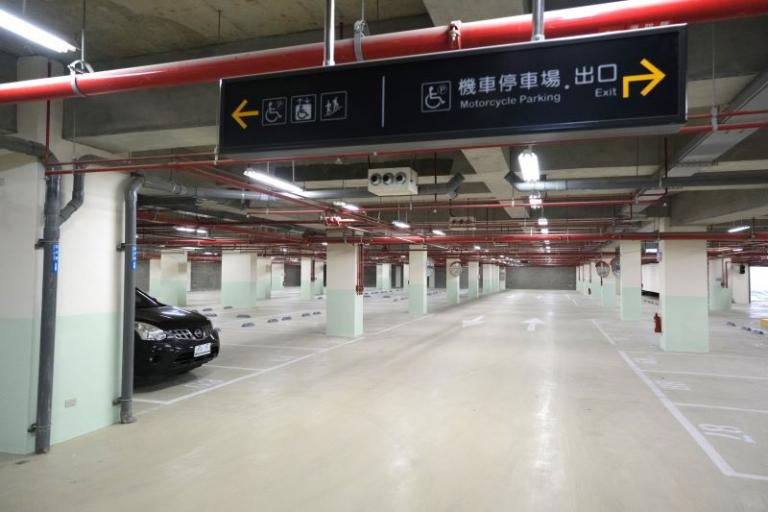car: (134, 280, 224, 395)
